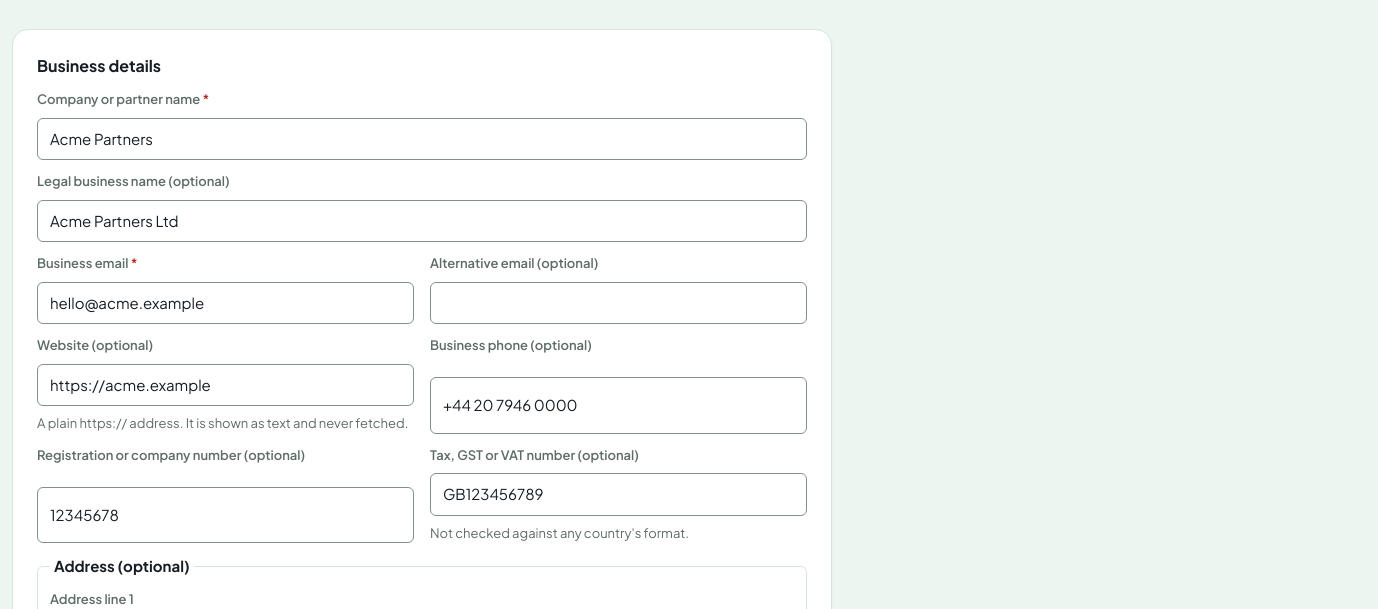
it: Business Details › sends a cleared optional field as empty, and a changed note and payout preference
(page scrolled)
Clear the field labelled "Website (optional)". click: (226, 385)
box: [37,364,414,406]
(page scrolled)
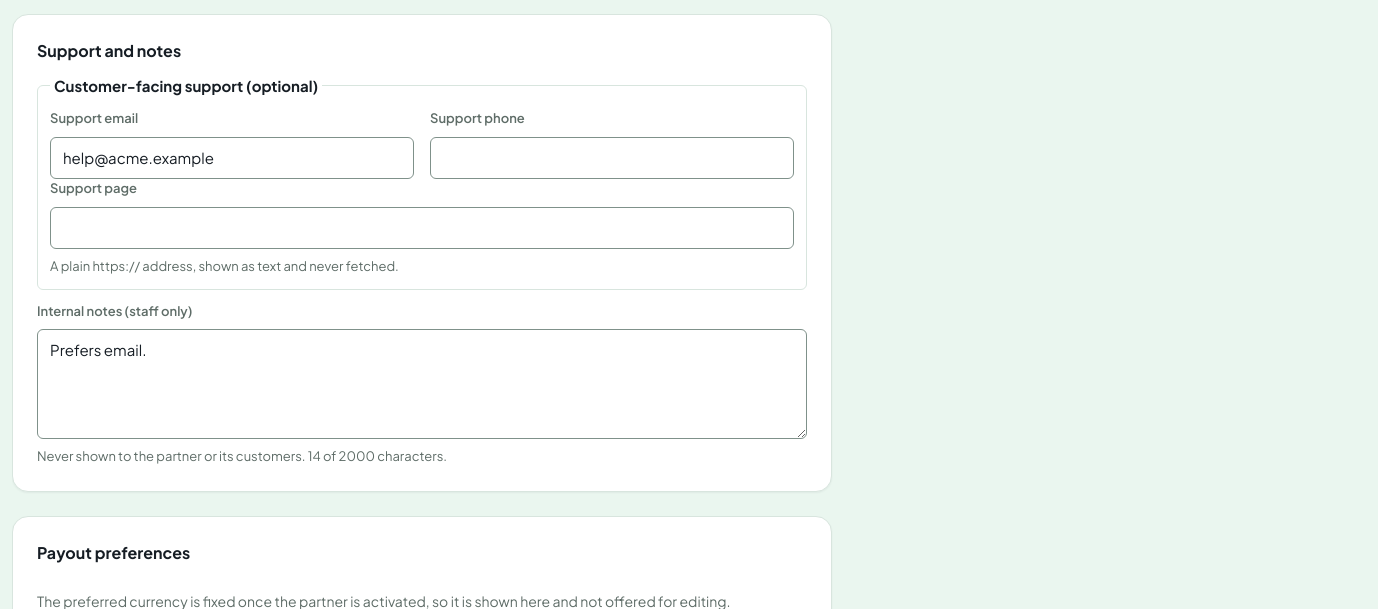
Replace the text in the text box labelled "Internal notes (staff only)" with "Call first.". click: (422, 384)
box: [37,329,807,439]
(page scrolled)
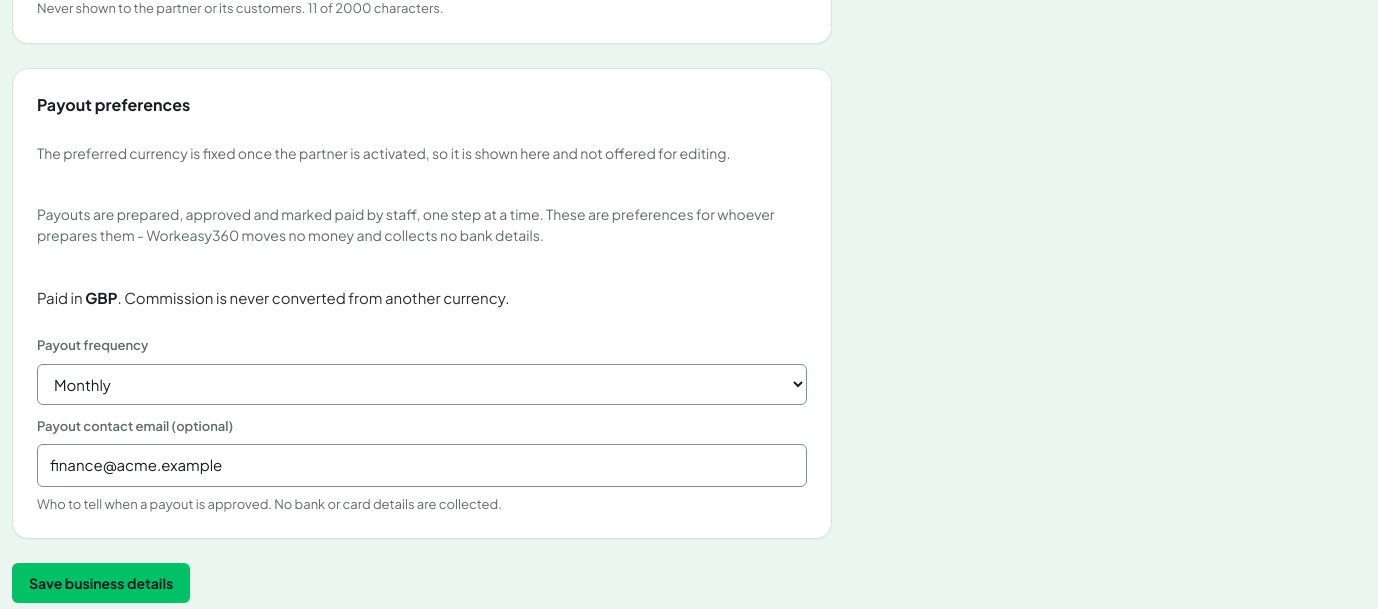
Select "Quarterly" in the dropdown labelled "Payout frequency". click: (422, 384)
box: [37,364,807,404]
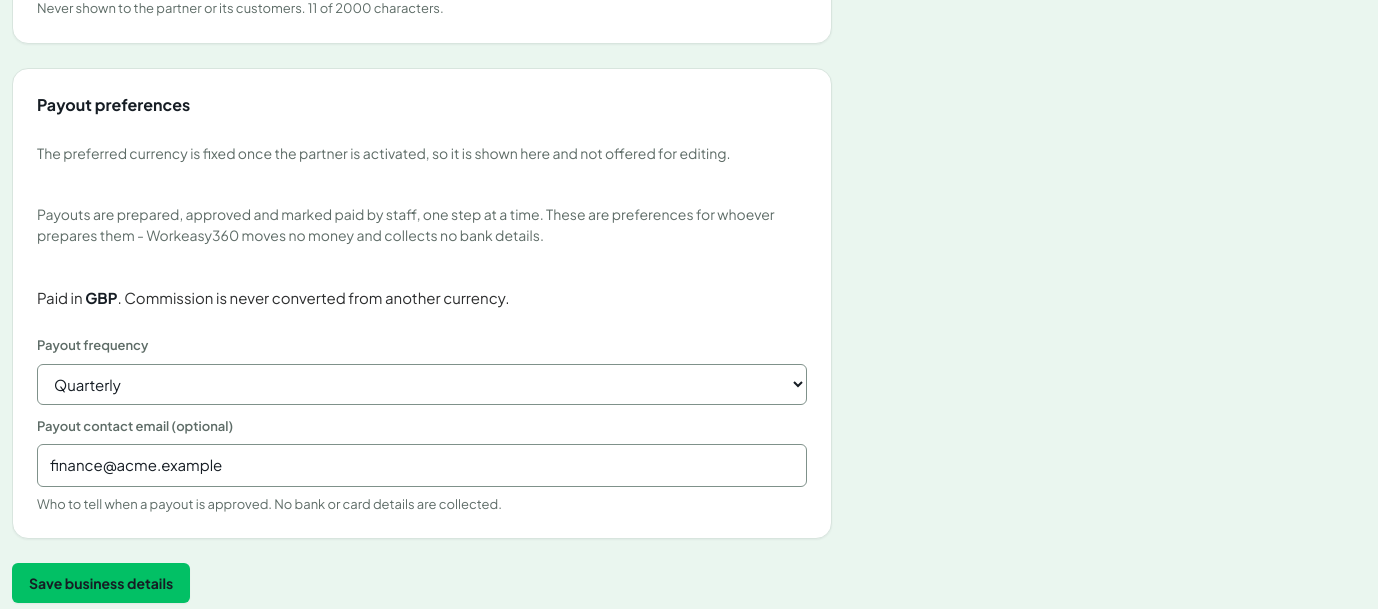
Clear the field labelled "Payout contact email (optional)". click: (422, 465)
box: [37,444,807,486]
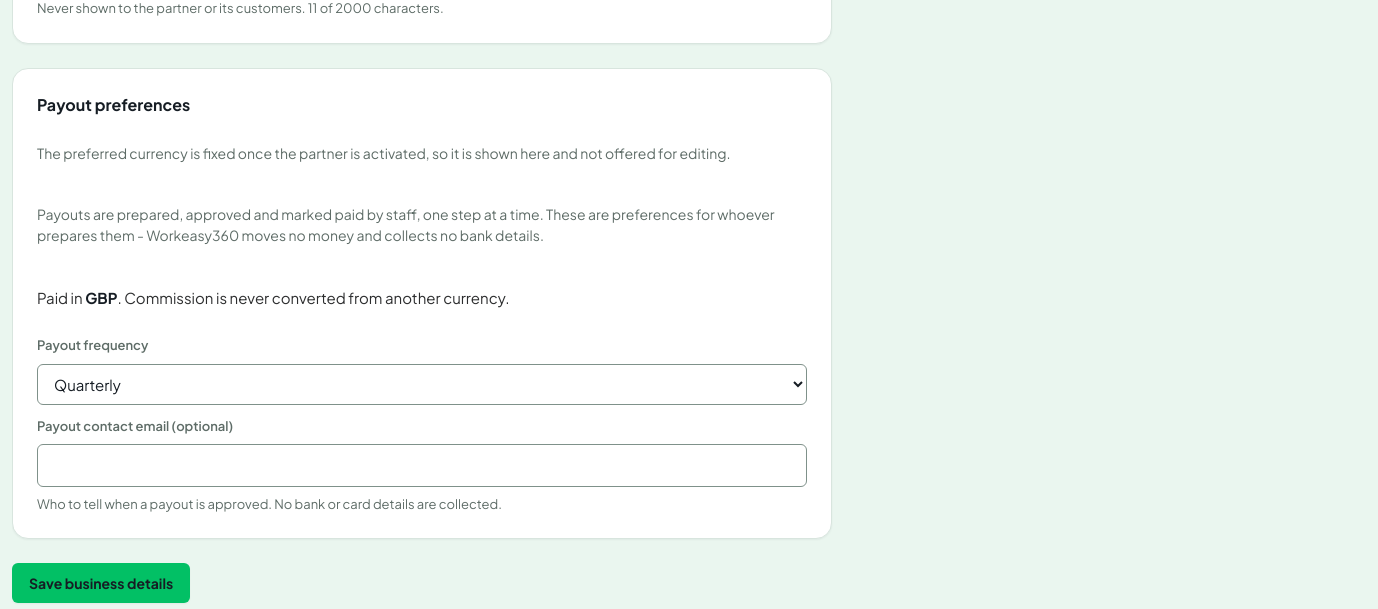
Click the button "Save business details". click: (101, 583)
box: [12,563,190,603]
(page scrolled)
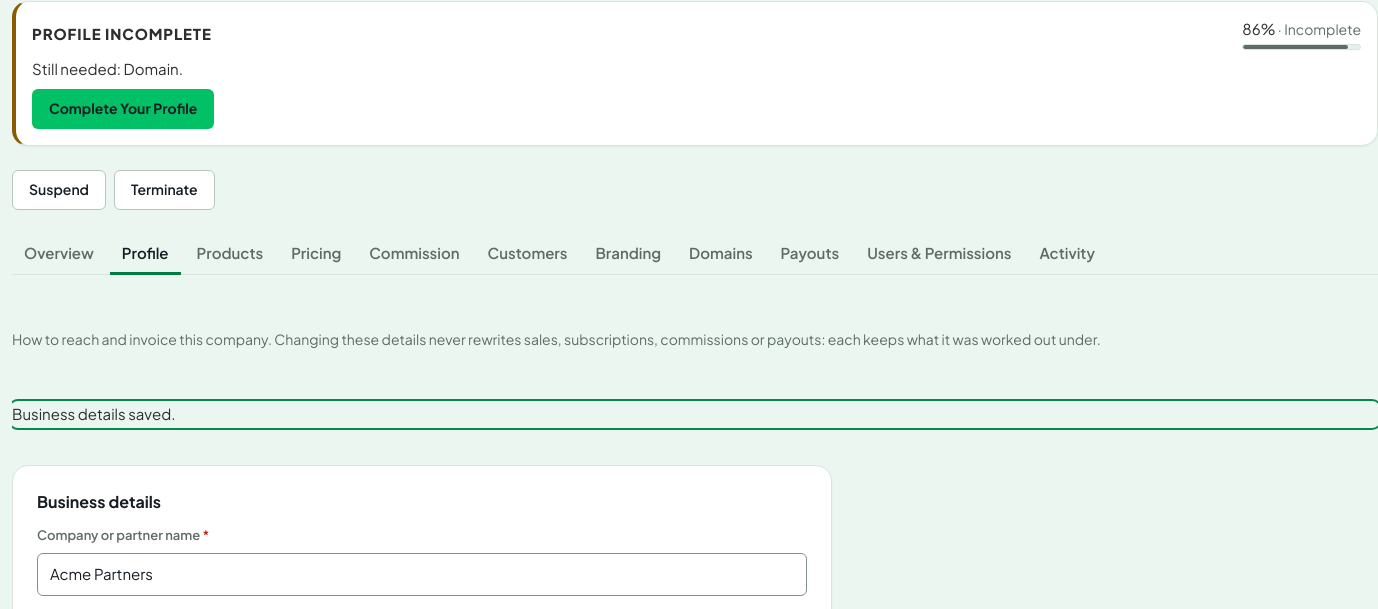
expect the text "Business details saved." is shown: met, box [12,404,175,423]
